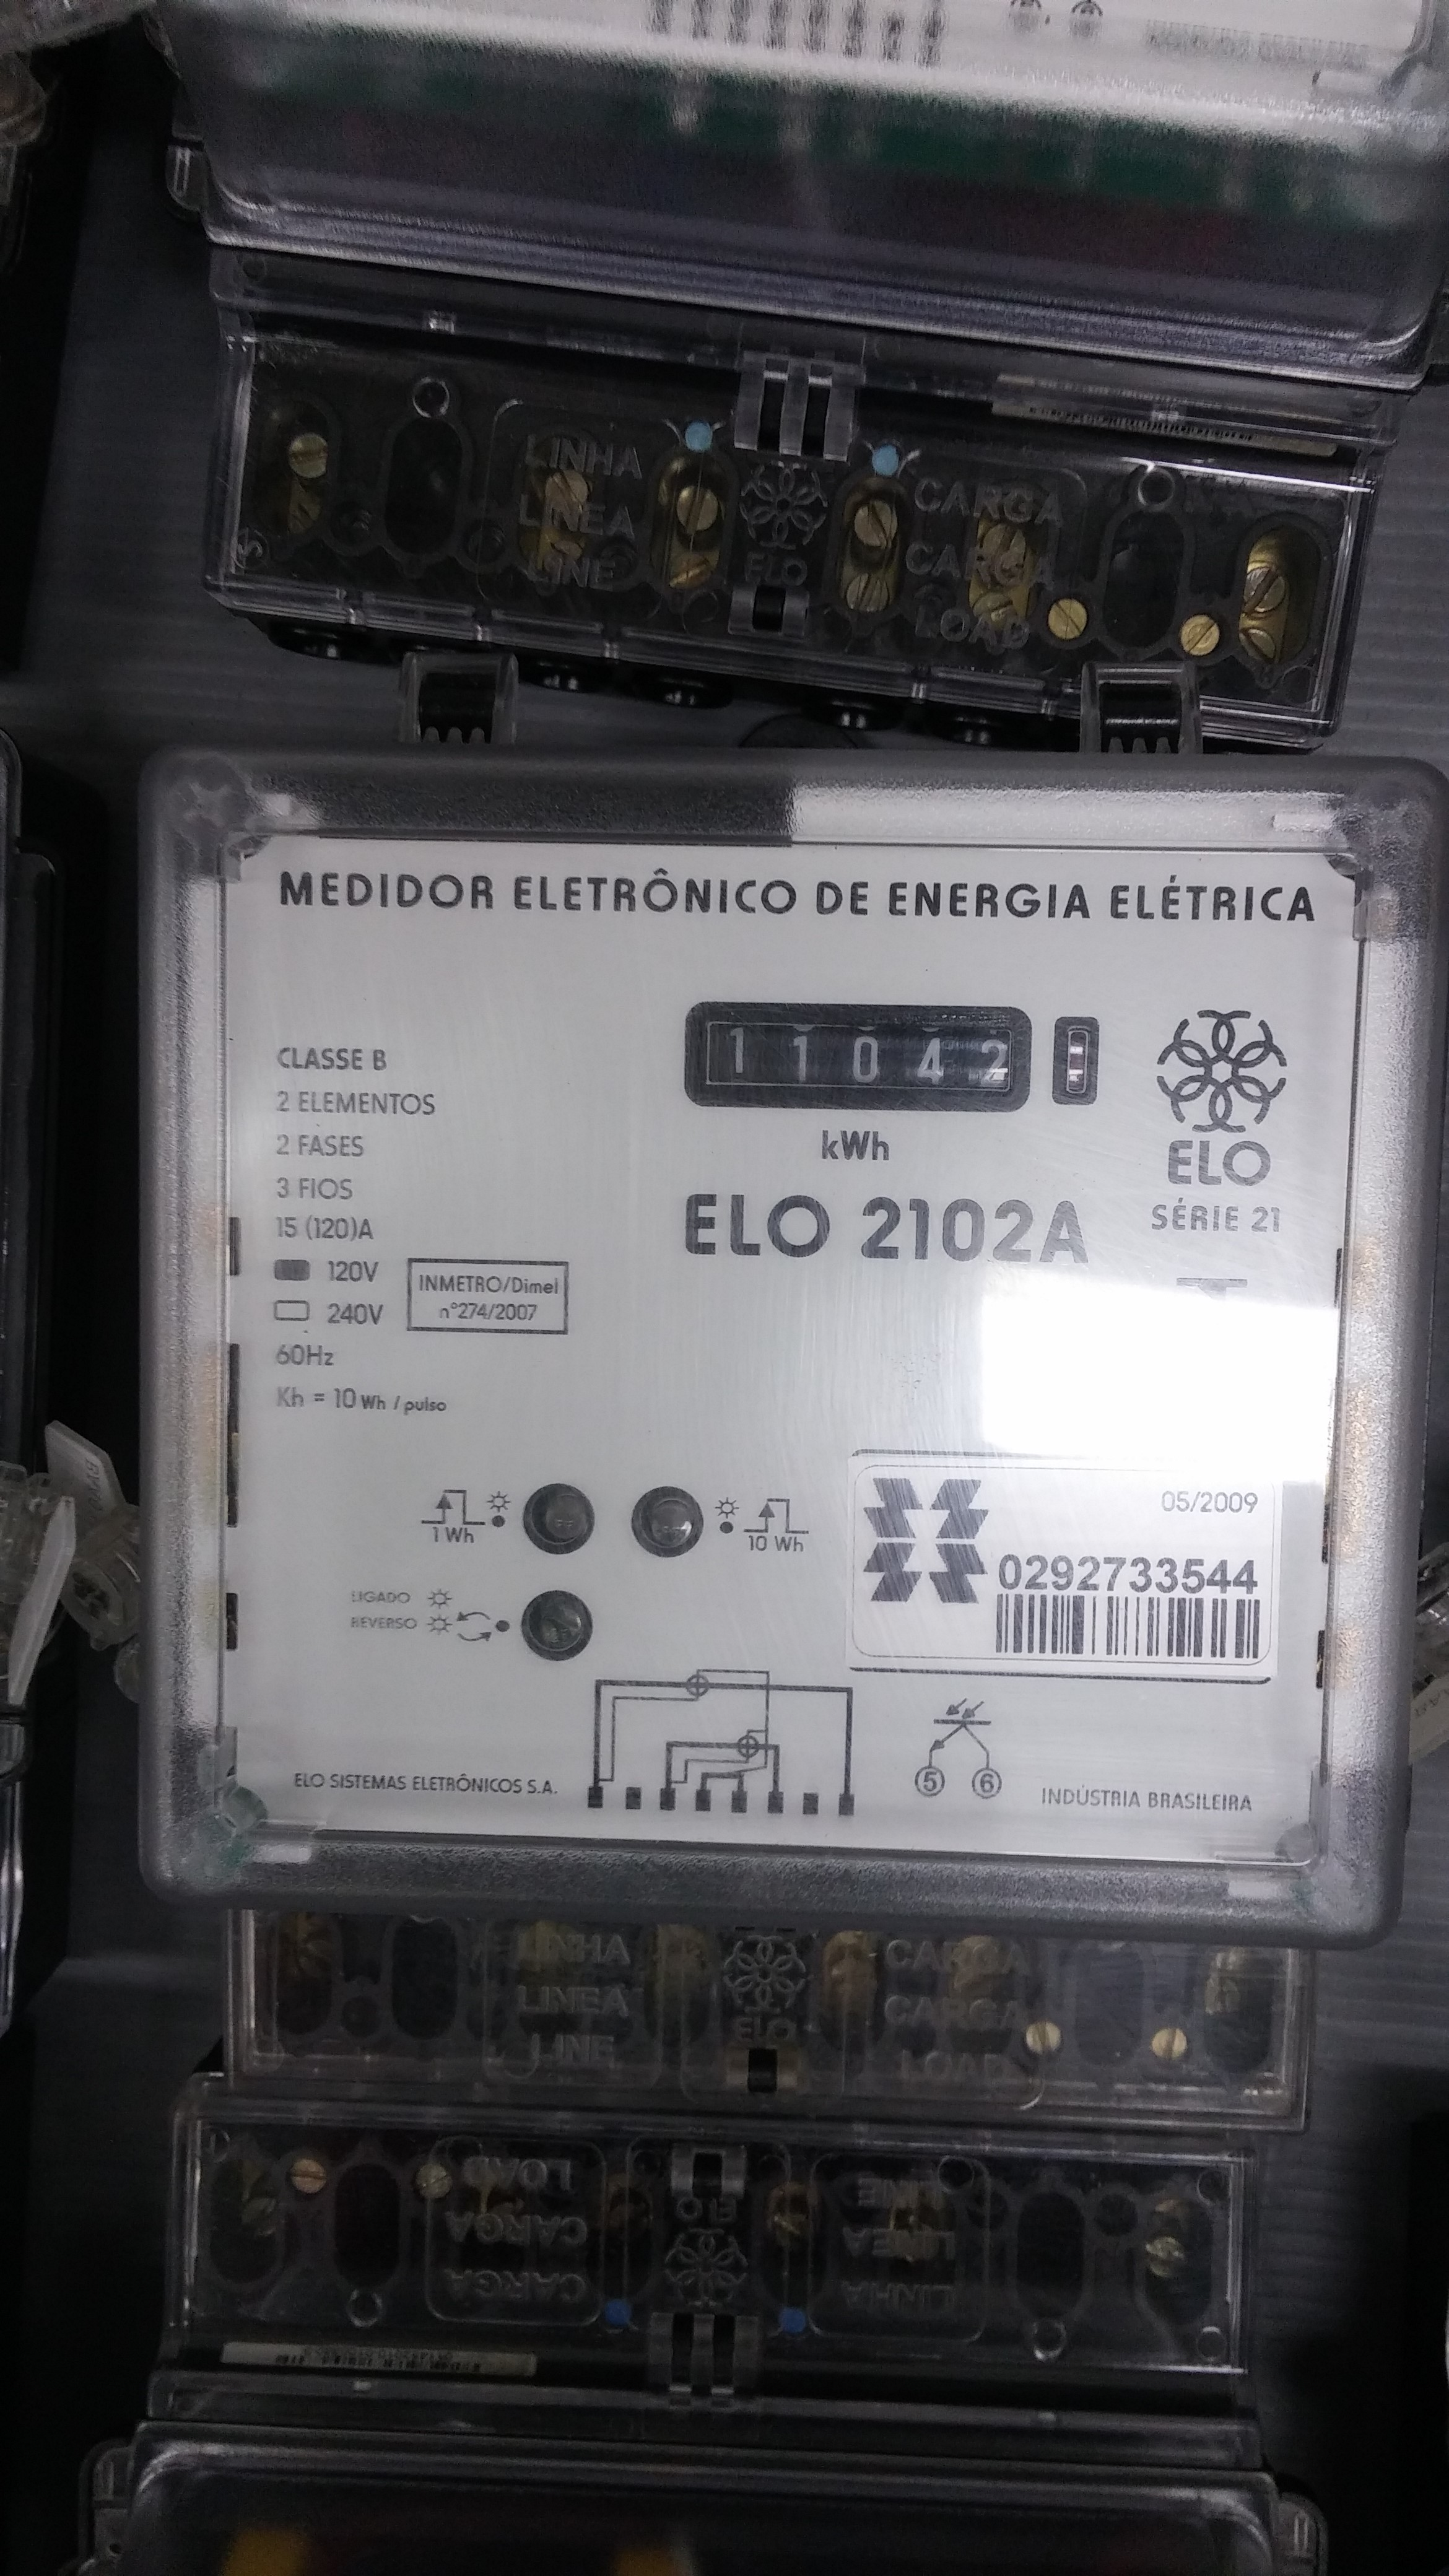counter2: (681, 994, 1030, 1120)
